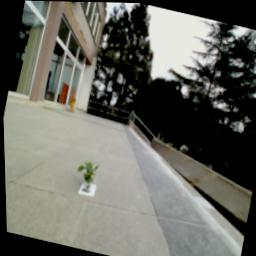herb: (71, 157, 101, 198)
